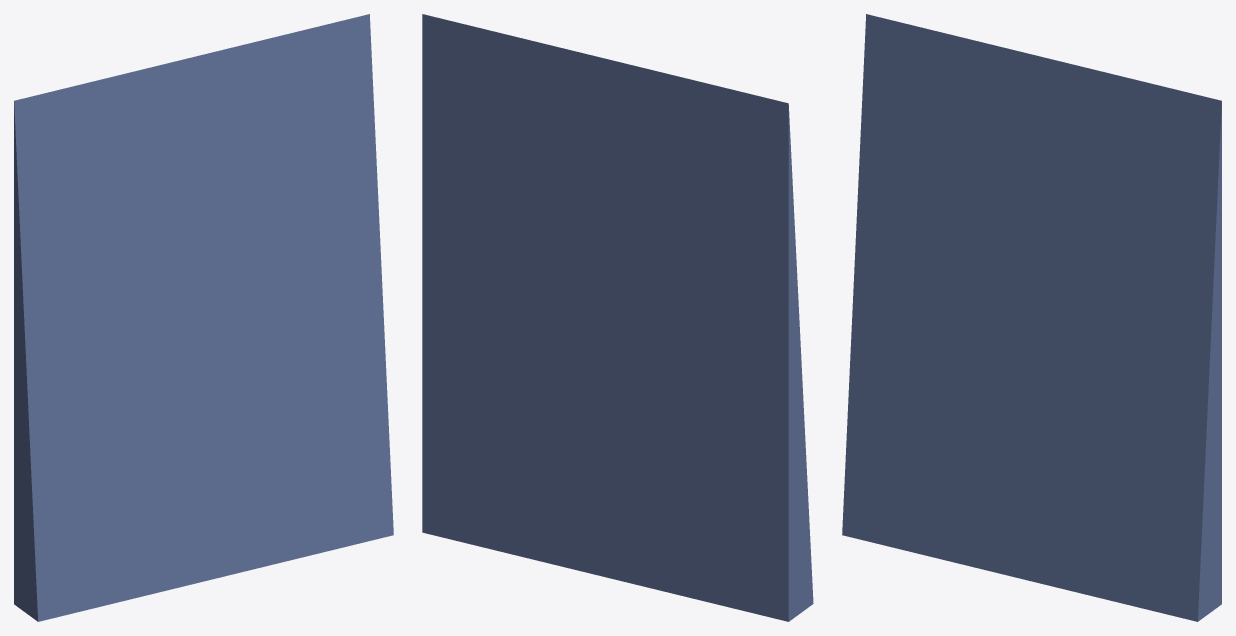
The model's file is nail.glb.
The picture shows the model from 3 angles, left to right: view 1: azimuth 30°, elevation 25°; view 2: azimuth 150°, elevation 25°; view 3: azimuth 330°, elevation 25°; orthographic projection. The views are drawn at different scales.
Visible parts, largest first — view 1: Mesh_Mesh_head_geo.001_lambert2SG.001; view 2: Mesh_Mesh_head_geo.001_lambert2SG.001; view 3: Mesh_Mesh_head_geo.001_lambert2SG.001.
Boxes of the visible parts, x1=… form: Mesh_Mesh_head_geo.001_lambert2SG.001: x1=14, y1=14, x2=393, y2=621; Mesh_Mesh_head_geo.001_lambert2SG.001: x1=422, y1=14, x2=813, y2=621; Mesh_Mesh_head_geo.001_lambert2SG.001: x1=842, y1=14, x2=1221, y2=621.
Size of the model in its own units: 0.017 by 0.023 by 0.00199.
